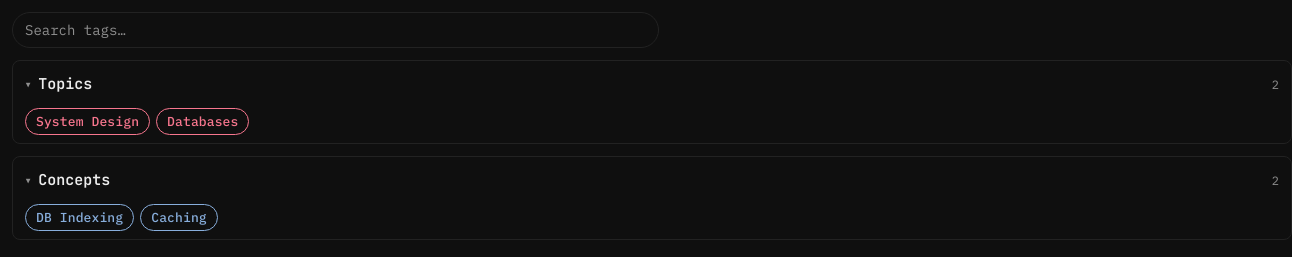
Test: TagPicker › filters both lists by search query
"i" appears in: "System Design", "DB Indexing", "Caching" — not in "Databases"
Step 1. Type "i" into the search field → (336,30), box left=12, top=12, right=659, bottom=48
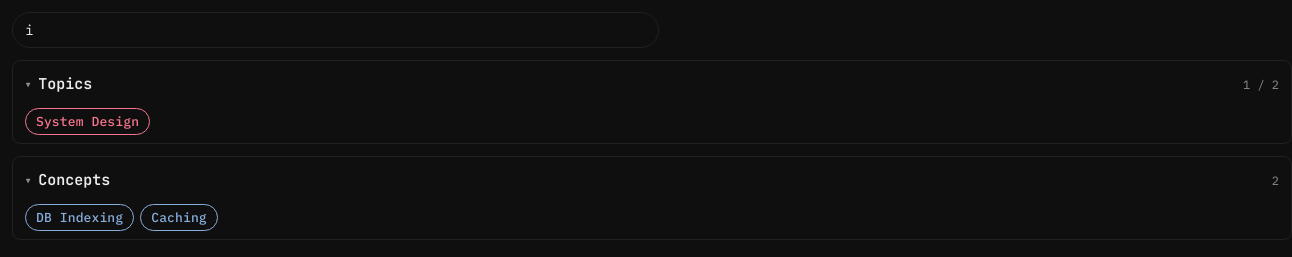
Expected: the button "System Design" is shown, left=25, top=108, right=150, bottom=135
Expected: the button "Databases" is gone
